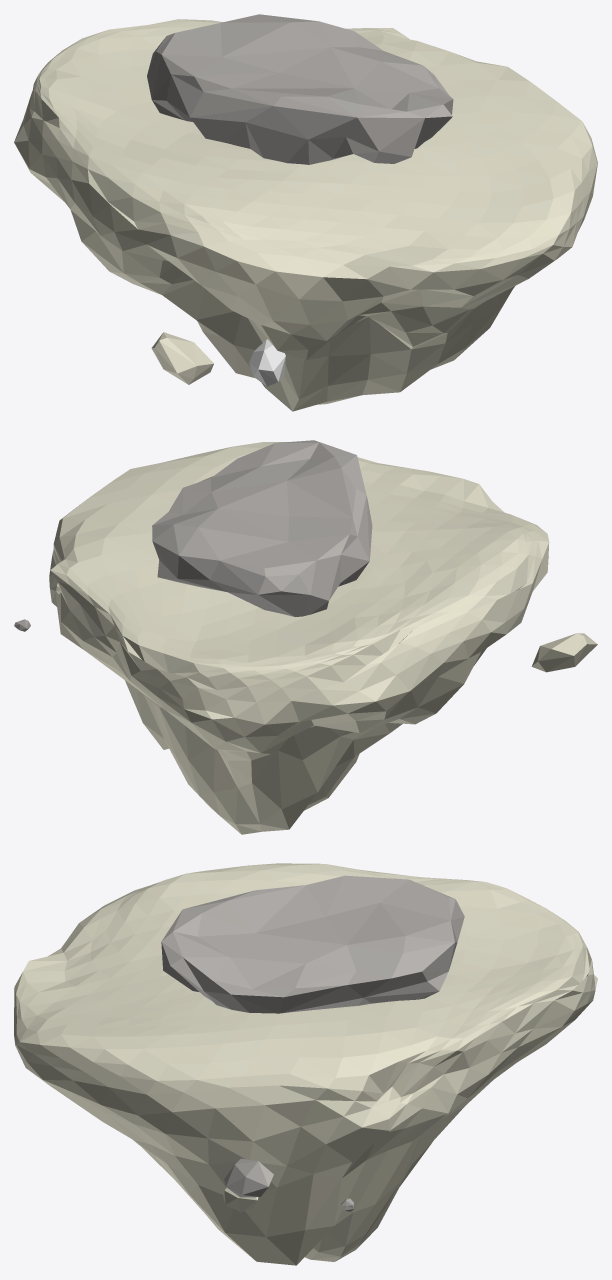
Rendered from planetC.fbx.
The picture shows the model from 3 angles, top to bottom: view 1: azimuth 30°, elevation 25°; view 2: azimuth 150°, elevation 25°; view 3: azimuth 270°, elevation 25°; orthographic projection. The views are drawn at different scales.
Parts seen in each view (by area): view 1: mass1, mass2, rock_adam.004, rock_adam; view 2: mass1, mass2, rock_adam.004; view 3: mass1, mass2, rock_adam.002.
Part boxes in pixels (x1,y1,x2,y2): mass1: (14, 19, 597, 411); mass2: (147, 14, 453, 164); rock_adam.004: (151, 332, 213, 384); rock_adam: (249, 339, 285, 386); mass1: (49, 442, 549, 834); mass2: (152, 440, 372, 616); rock_adam.004: (531, 633, 597, 672); mass1: (14, 863, 597, 1265); mass2: (161, 875, 464, 1013); rock_adam.002: (224, 1158, 273, 1197).
Bounding box in the file's own units: 94 × 63.8 × 101.
